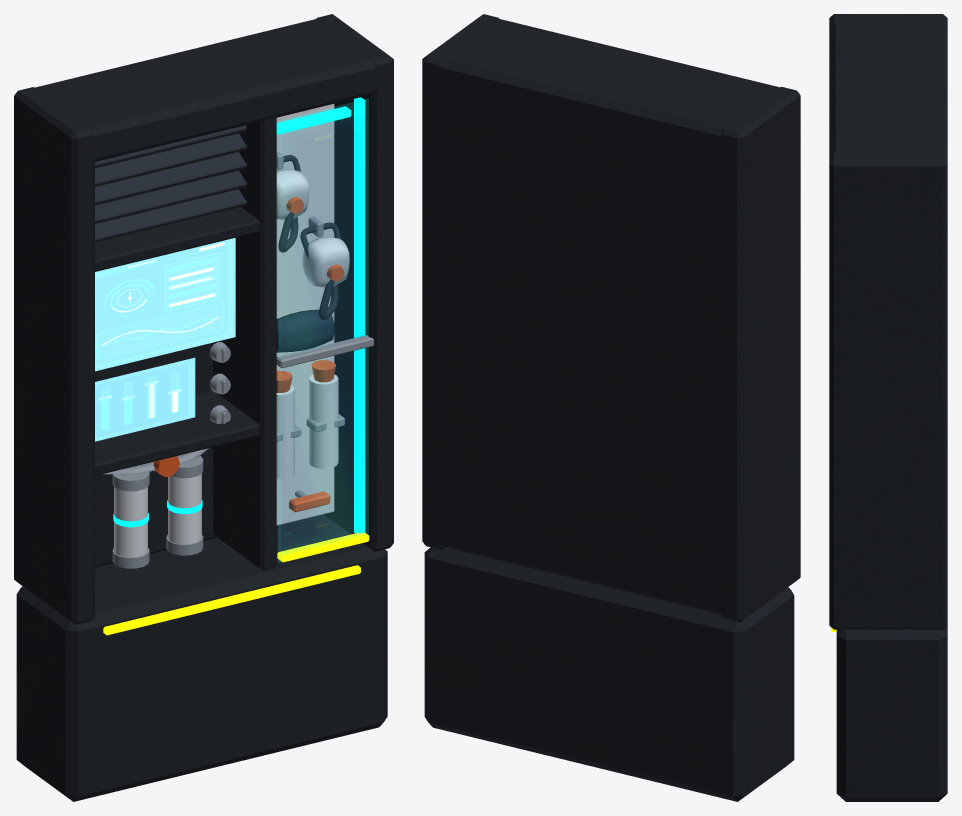
File: climate_winner_01_split_env_o2_station.glb
3 renders of one model, left to right at view 1: azimuth 30°, elevation 25°; view 2: azimuth 150°, elevation 25°; view 3: azimuth 270°, elevation 25°, orthographic. The views are drawn at different scales.
Visible parts, largest first — view 1: Climate02_SplitBayGunmetalHull, Climate02_WhiteO2TowerAndScrubbers, Climate02_RightTowerTranslucentO2Door, Climate02_LeftCoriolisOLEDMonitor, Climate02_LeftBayLaminarLouvers, Climate02_CyanTowerAndScrubberLED, Climate02_LeftCircadianSlidersOLED, Climate02_MachinedVerniersAndManifold, Climate02_AmberTowerAndPlinthLED, Climate02_SignalOrangeValvesAndBreachLever, Climate02_NavyThermalHoodPouch, Climate02_CharcoalMaskHarnessesAndHoses; view 2: Climate02_SplitBayGunmetalHull; view 3: Climate02_SplitBayGunmetalHull.
Part boxes in pixels (x1,y1,x2,y2): Climate02_SplitBayGunmetalHull: (14, 14, 393, 801); Climate02_WhiteO2TowerAndScrubbers: (114, 104, 349, 557); Climate02_RightTowerTranslucentO2Door: (279, 99, 368, 562); Climate02_LeftCoriolisOLEDMonitor: (95, 238, 235, 371); Climate02_LeftBayLaminarLouvers: (95, 125, 247, 242); Climate02_CyanTowerAndScrubberLED: (113, 97, 365, 533); Climate02_LeftCircadianSlidersOLED: (95, 357, 195, 441); Climate02_MachinedVerniersAndManifold: (102, 151, 373, 568); Climate02_AmberTowerAndPlinthLED: (103, 532, 369, 635); Climate02_SignalOrangeValvesAndBreachLever: (153, 196, 344, 512); Climate02_NavyThermalHoodPouch: (276, 309, 334, 352); Climate02_CharcoalMaskHarnessesAndHoses: (278, 155, 341, 319); Climate02_SplitBayGunmetalHull: (422, 14, 800, 801); Climate02_SplitBayGunmetalHull: (829, 14, 947, 801).
Size of the model in its own units: 0.96 by 1.92 by 0.32.
Materials: 13 (13 with a texture image).
